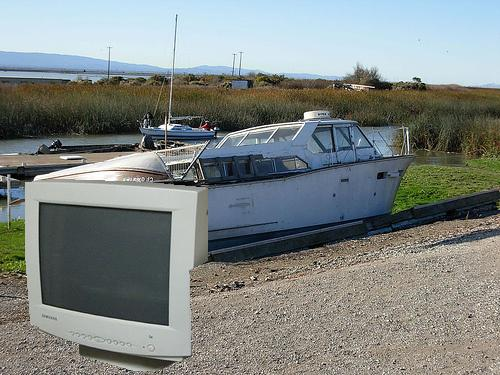tampered: (26, 180, 208, 371)
